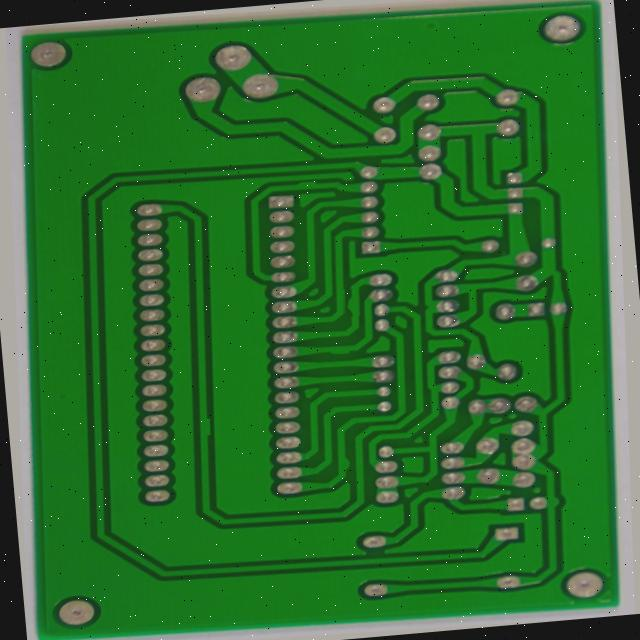spur: (342, 287, 362, 316), (198, 416, 217, 444), (328, 340, 359, 356), (284, 174, 314, 187), (346, 455, 364, 473)
